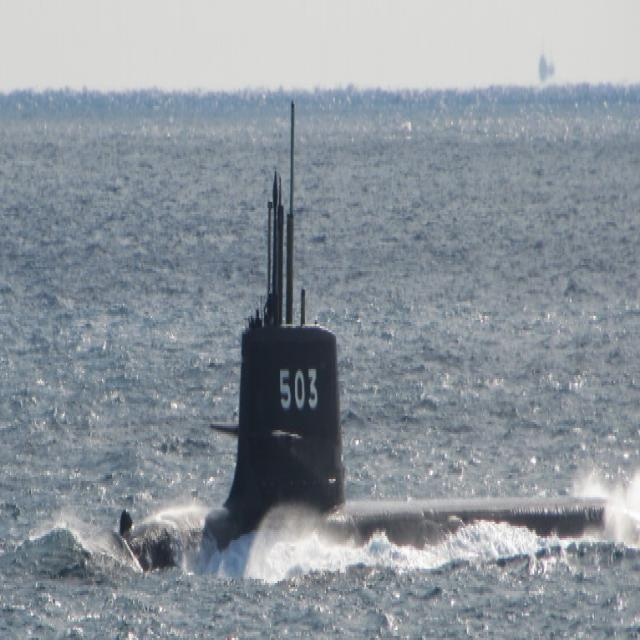submarine: (121, 99, 640, 541)
